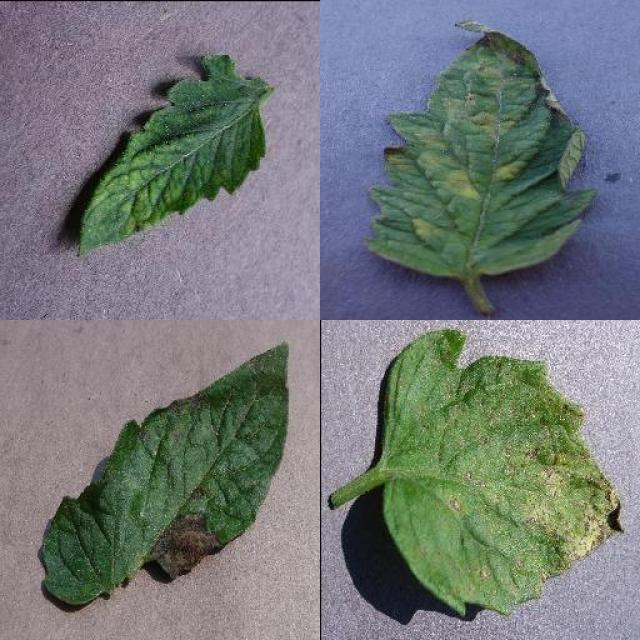Late Blight: (40, 339, 290, 606)
Septoria: (380, 330, 625, 615)
